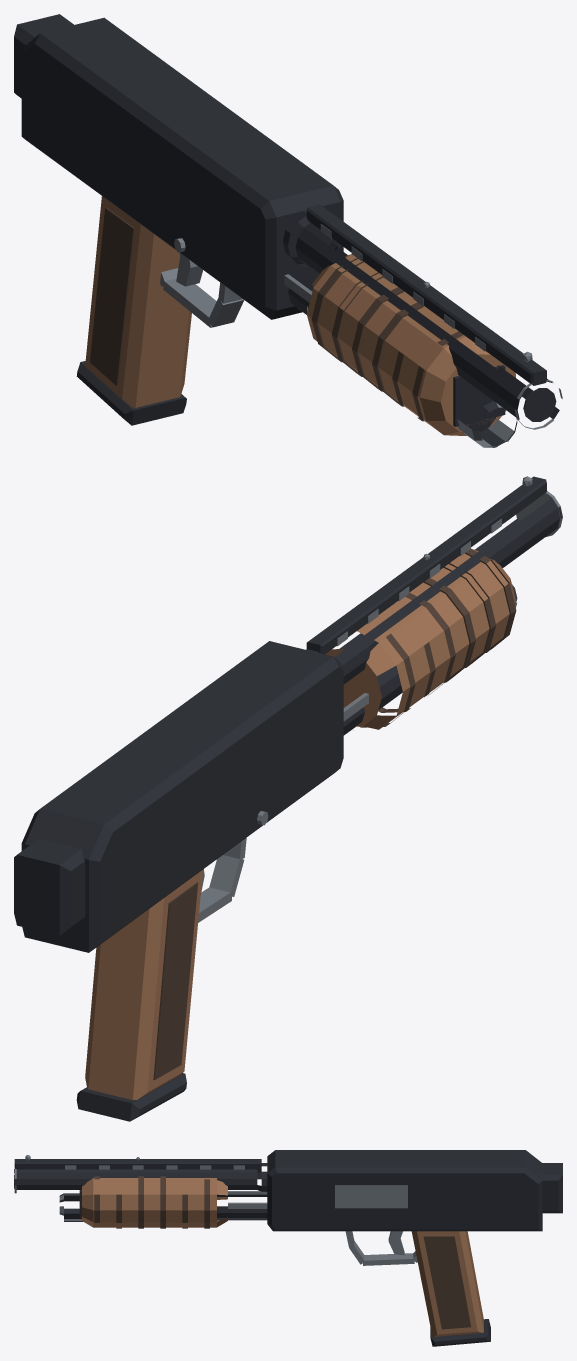
File: shotgun_short.glb
3 views of the same model, one above another, from view 1: azimuth 30°, elevation 25°; view 2: azimuth 150°, elevation 25°; view 3: azimuth 270°, elevation 25° (orthographic). The views are drawn at different scales.
Visible parts, largest first — view 1: shotgun_short_mesh, PUMP, TRIGGER; view 2: shotgun_short_mesh, PUMP; view 3: shotgun_short_mesh, PUMP, TRIGGER.
Part boxes in pixels (x1=…): shotgun_short_mesh: x1=14, y1=14, x2=562, y2=447; PUMP: x1=284, y1=254, x2=515, y2=435; TRIGGER: x1=176, y1=253, x2=202, y2=286; shotgun_short_mesh: x1=14, y1=476, x2=562, y2=1121; PUMP: x1=325, y1=548, x2=516, y2=729; shotgun_short_mesh: x1=14, y1=1150, x2=562, y2=1346; PUMP: x1=82, y1=1176, x2=267, y2=1228; TRIGGER: x1=388, y1=1231, x2=404, y2=1255.
Size of the model in its own units: 0.0556 by 0.1818 by 0.4885.
Materials: 1 (1 with a texture image).
